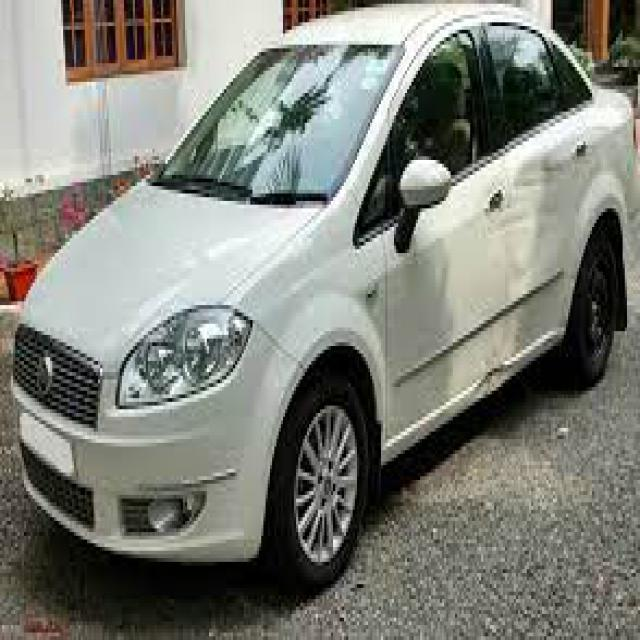doorouter-dent: (342, 160, 529, 432)
